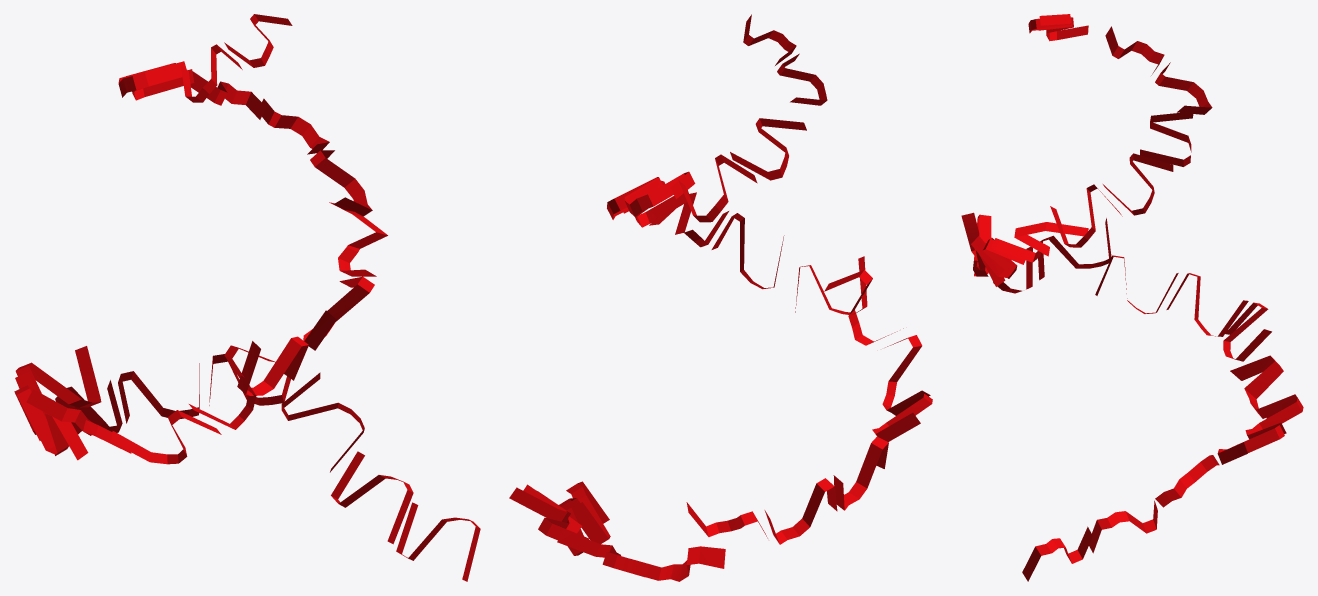
File: Prefab_Xmas_Tree_Ribbon_C.glb
3 renders of one model, left to right at view 1: azimuth 30°, elevation 25°; view 2: azimuth 150°, elevation 25°; view 3: azimuth 270°, elevation 25°, orthographic. The views are drawn at different scales.
Parts seen in each view (by area): view 1: Ribbon_C; view 2: Ribbon_C; view 3: Ribbon_C.
Part boxes in pixels (x1,y1,x2,y2): Ribbon_C: (14,14,480,581); Ribbon_C: (509,14,932,581); Ribbon_C: (961,14,1303,581).
Size of the model in its own units: 1.26 by 1.74 by 1.09.
